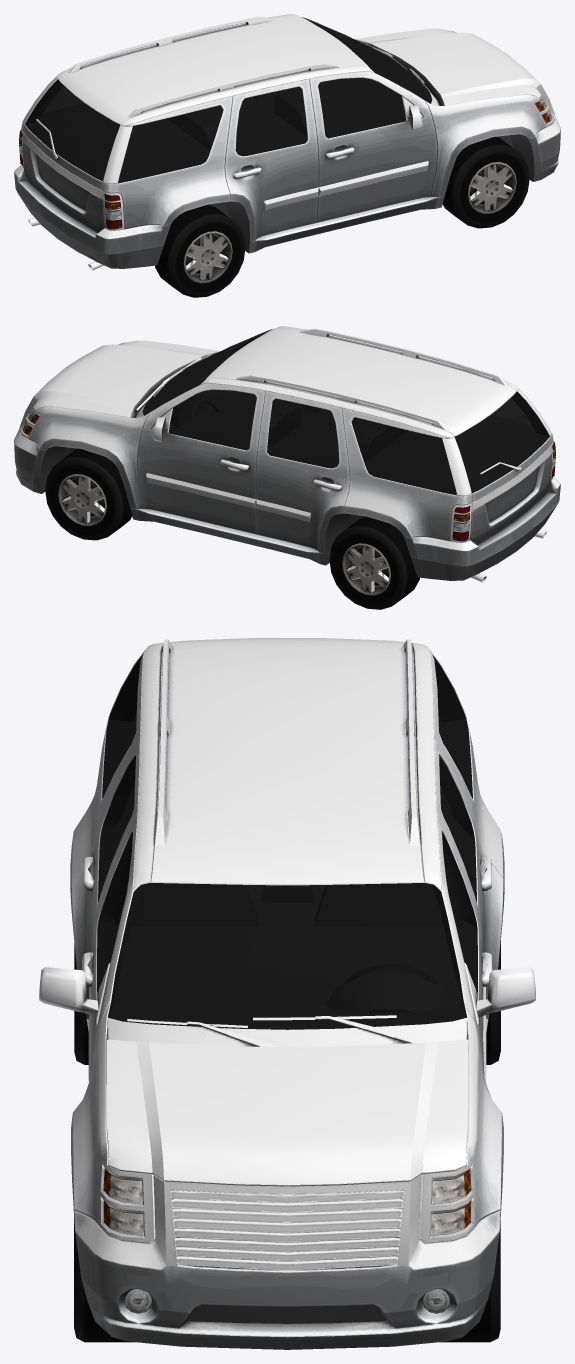
The model's file is suv_white.glb.
3 views of the same model, one above another, from view 1: azimuth 30°, elevation 25°; view 2: azimuth 150°, elevation 25°; view 3: azimuth 270°, elevation 25° (orthographic). The views are drawn at different scales.
Parts seen in each view (by area): view 1: SUV Body; view 2: SUV Body; view 3: SUV Body.
Part boxes in pixels (<box>): SUV Body: <box>14,14,560,297</box>; SUV Body: <box>14,326,560,609</box>; SUV Body: <box>39,638,535,1349</box>.
Size of the model in its own units: 4.6 by 1.73 by 2.06.
4 materials, 3 textured.
